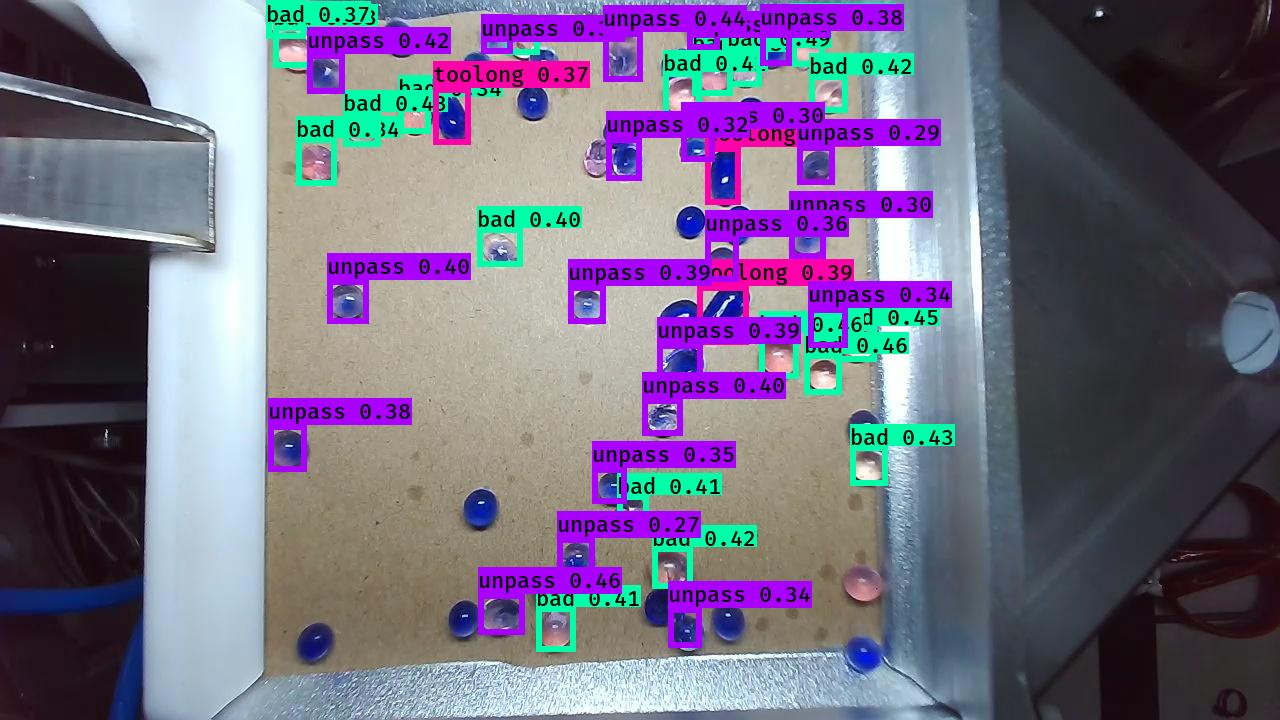bad: (374, 87, 431, 140), (868, 160, 921, 215), (458, 70, 513, 122), (355, 477, 412, 527), (361, 407, 417, 457), (452, 535, 506, 584), (873, 117, 928, 163), (872, 70, 923, 119), (633, 578, 684, 627), (417, 402, 468, 450), (453, 436, 504, 484), (403, 545, 454, 593), (400, 449, 453, 495), (796, 70, 842, 119)
